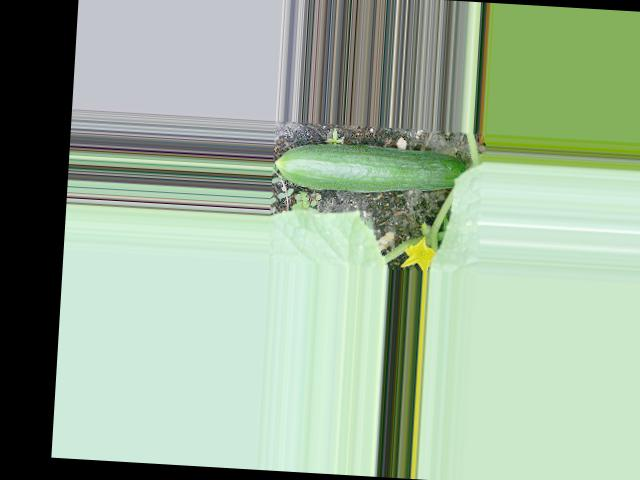cucumber: (272, 139, 467, 198)
